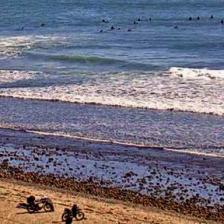surfer: (17, 26, 24, 30), (133, 21, 139, 24), (105, 20, 110, 23), (100, 30, 107, 32), (210, 15, 214, 18), (197, 16, 200, 20), (189, 17, 192, 21), (173, 27, 179, 29), (102, 18, 105, 22), (111, 26, 115, 29), (138, 18, 141, 21), (41, 23, 44, 26), (222, 16, 224, 20), (221, 20, 223, 24), (127, 30, 131, 32), (150, 18, 152, 21), (118, 28, 121, 30)
